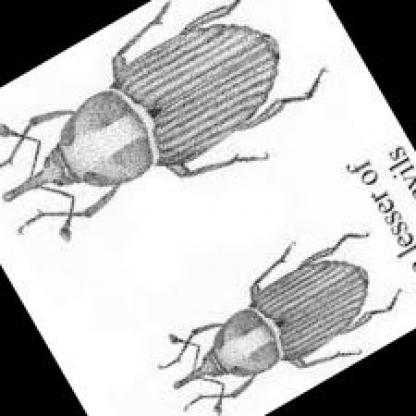ash weevil: (3, 5, 324, 234), (174, 236, 398, 390)
